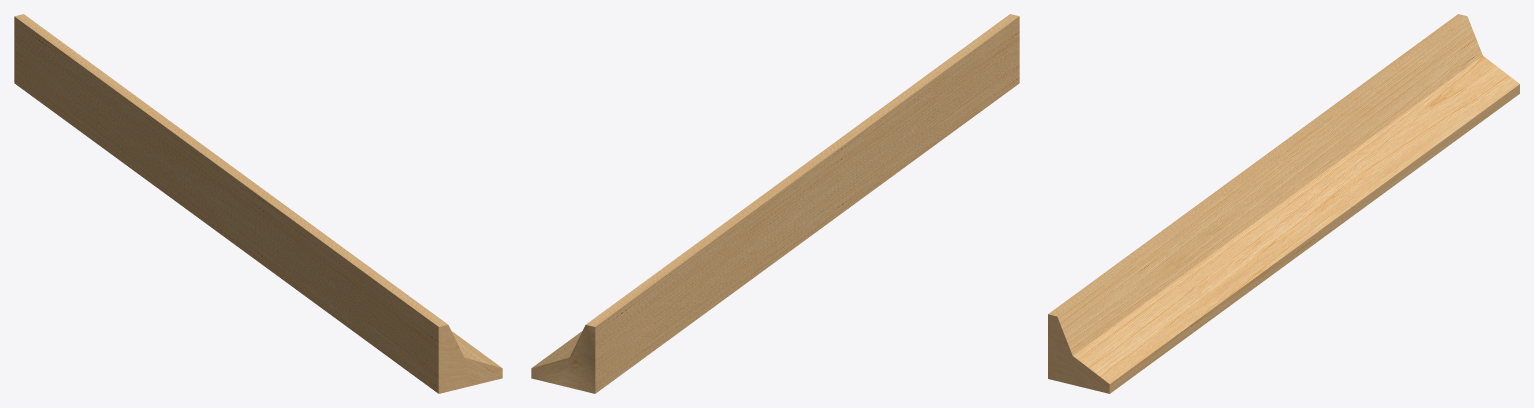
The model's file is corner_cover_united_doorway.fbx.
3 views of the same model, side by side, from view 1: azimuth 30°, elevation 25°; view 2: azimuth 150°, elevation 25°; view 3: azimuth 330°, elevation 25° (orthographic). The views are drawn at different scales.
Parts seen in each view (by area): view 1: Part; view 2: Part; view 3: Part.
Part boxes in pixels (x1,y1,x2,y2): Part: [14, 14, 502, 393]; Part: [531, 14, 1019, 393]; Part: [1048, 14, 1519, 393].
Bounding box in the file's own units: 5 × 5 × 57.5.
